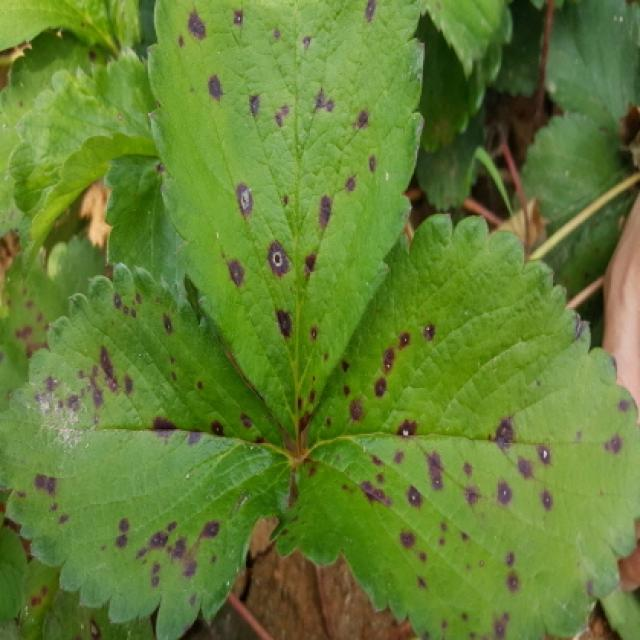Leaf Spot: (265, 213, 640, 638), (146, 0, 428, 451), (2, 263, 298, 638), (2, 29, 117, 196), (2, 231, 105, 403), (102, 152, 188, 301), (41, 591, 153, 638), (2, 557, 60, 638)
